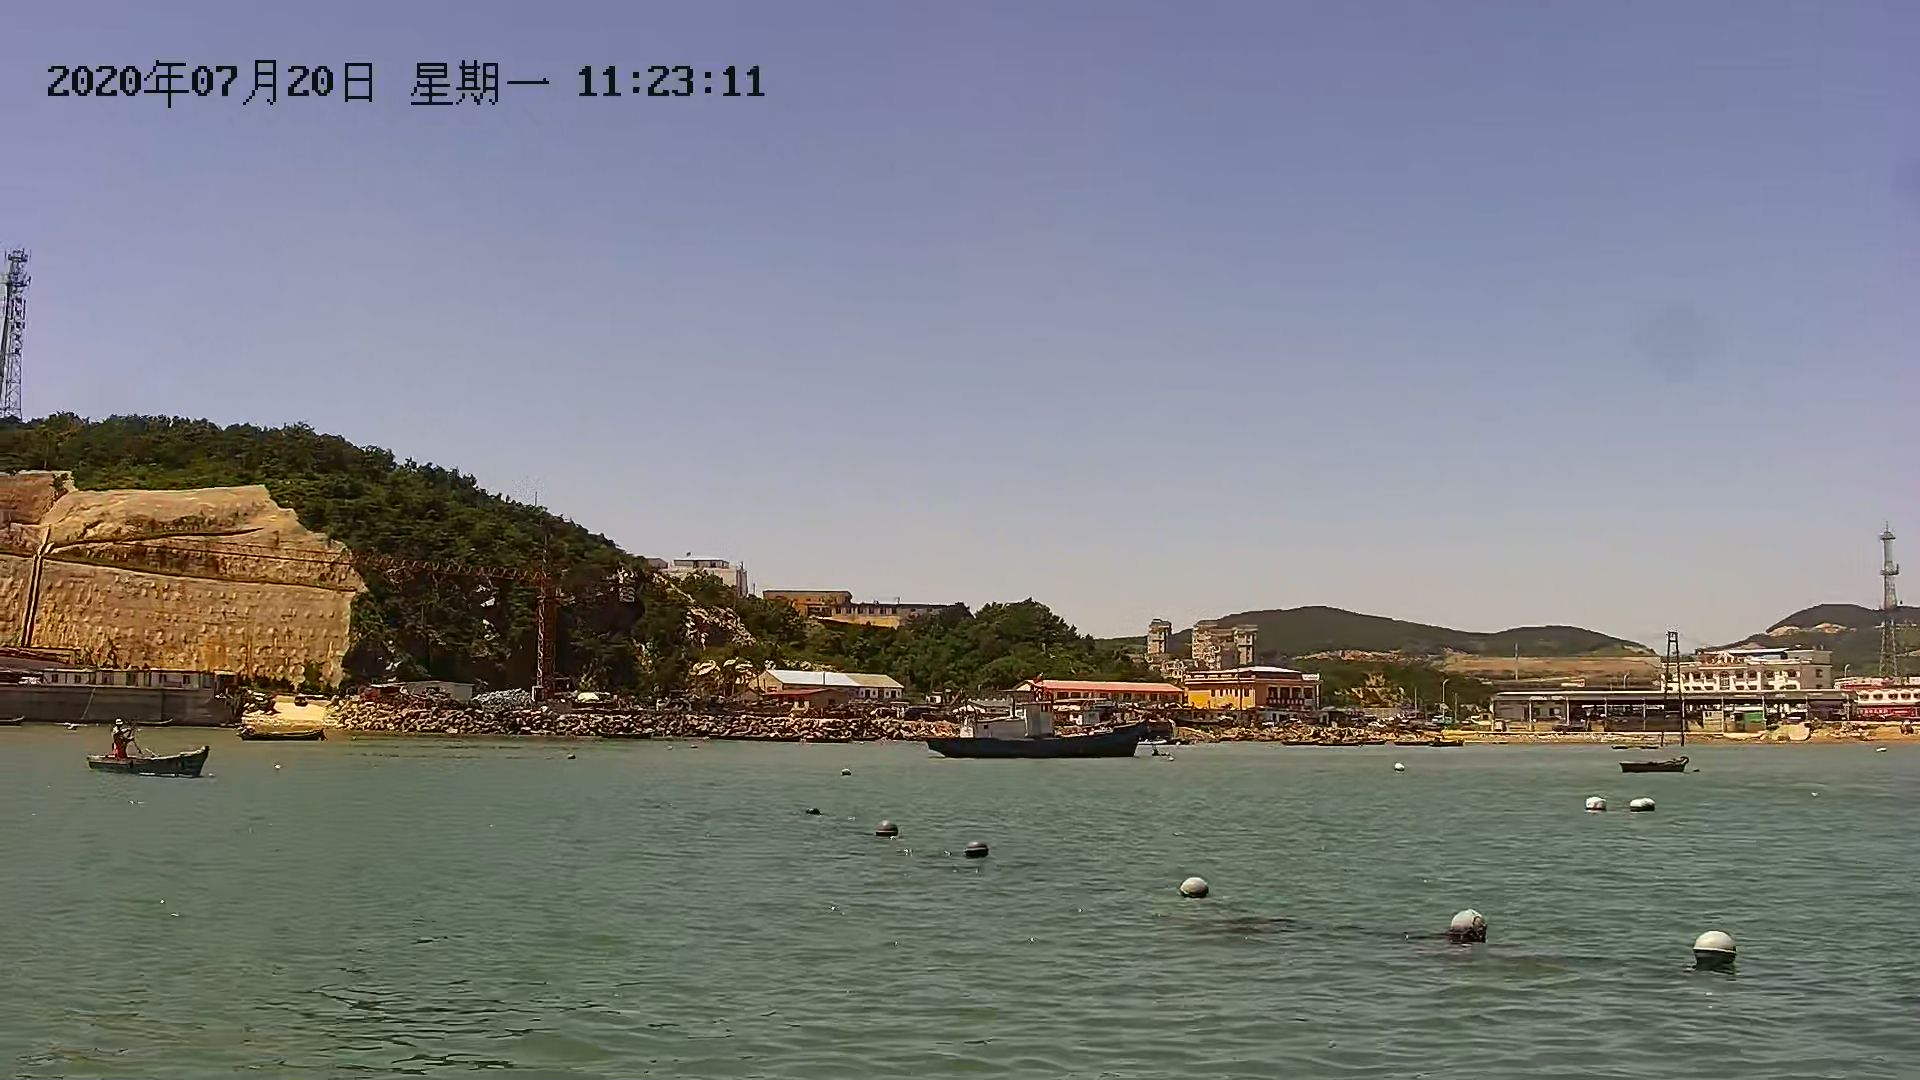ball: (1684, 932, 1744, 971), (1443, 905, 1491, 943), (959, 833, 999, 867), (1172, 871, 1215, 901), (872, 816, 910, 841), (1624, 794, 1663, 812), (1585, 792, 1604, 818)
boat: (929, 694, 1162, 758), (87, 750, 217, 784), (1614, 749, 1695, 775)
person: (102, 716, 137, 776)
